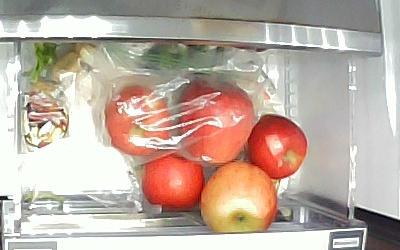apple: (200, 161, 278, 234), (249, 113, 308, 182), (141, 153, 206, 210)
apple_vinyl: (176, 79, 252, 166), (104, 83, 174, 158)
